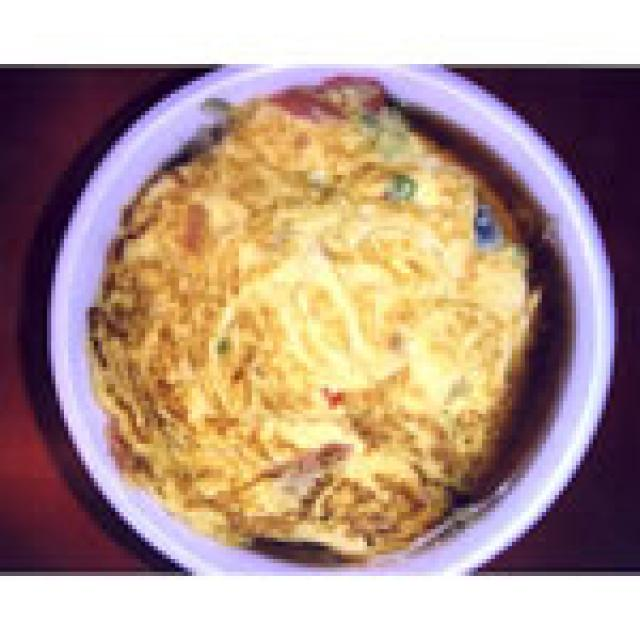面条主食: (68, 56, 602, 580)
